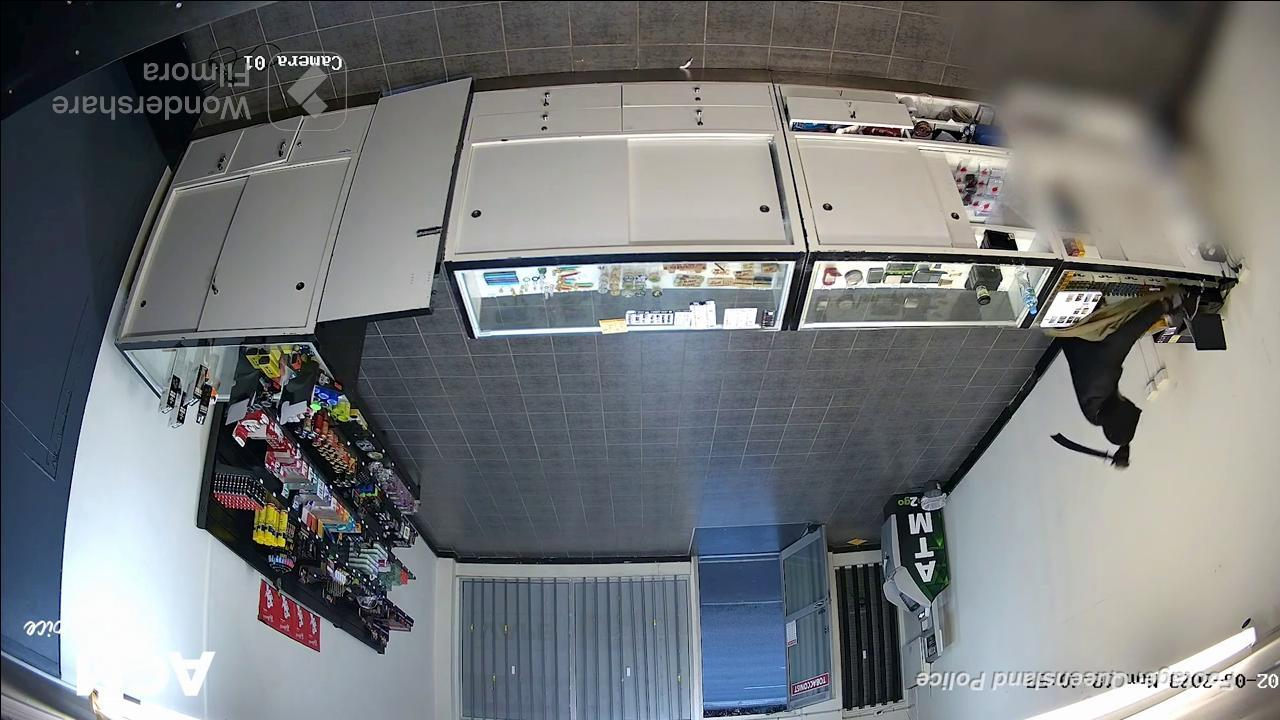melee: (1046, 426, 1128, 470)
